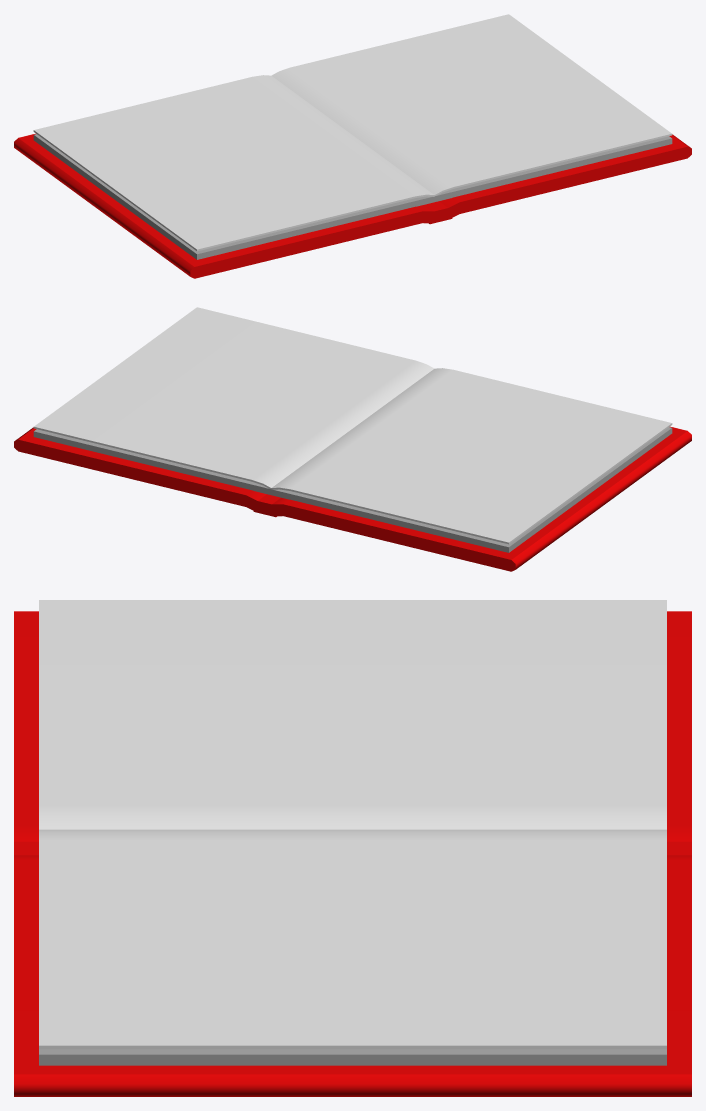
Rendered from book.fbx.
3 renders of one model, top to bottom at view 1: azimuth 30°, elevation 25°; view 2: azimuth 150°, elevation 25°; view 3: azimuth 270°, elevation 25°, orthographic. The views are drawn at different scales.
Visible parts, largest first — view 1: pCube6, pCube5, pCube8, pCube7, pCube10, pCube9; view 2: pCube6, pCube5, pCube8, pCube7, pCube10, pCube9, pCube4; view 3: pCube5, pCube6, pCube7, pCube8, pCube9, pCube4.
Boxes of the visible parts, <box> form: pCube6: <box>271,14,672,195</box>; pCube5: <box>33,75,434,251</box>; pCube8: <box>14,133,433,278</box>; pCube7: <box>439,134,691,219</box>; pCube10: <box>33,134,434,259</box>; pCube9: <box>434,136,672,201</box>; pCube6: <box>33,307,434,488</box>; pCube5: <box>271,368,672,544</box>; pCube8: <box>272,426,691,571</box>; pCube7: <box>14,427,266,512</box>; pCube10: <box>271,427,672,552</box>; pCube9: <box>33,429,271,494</box>; pCube4: <box>253,494,280,517</box>; pCube5: <box>39,600,666,829</box>; pCube6: <box>39,829,666,1049</box>; pCube7: <box>14,855,691,1096</box>; pCube8: <box>14,611,691,841</box>; pCube9: <box>39,1049,666,1065</box>; pCube4: <box>14,841,691,855</box>.
Bounding box in the file's own units: 4.43 × 0.2125 × 2.7.
